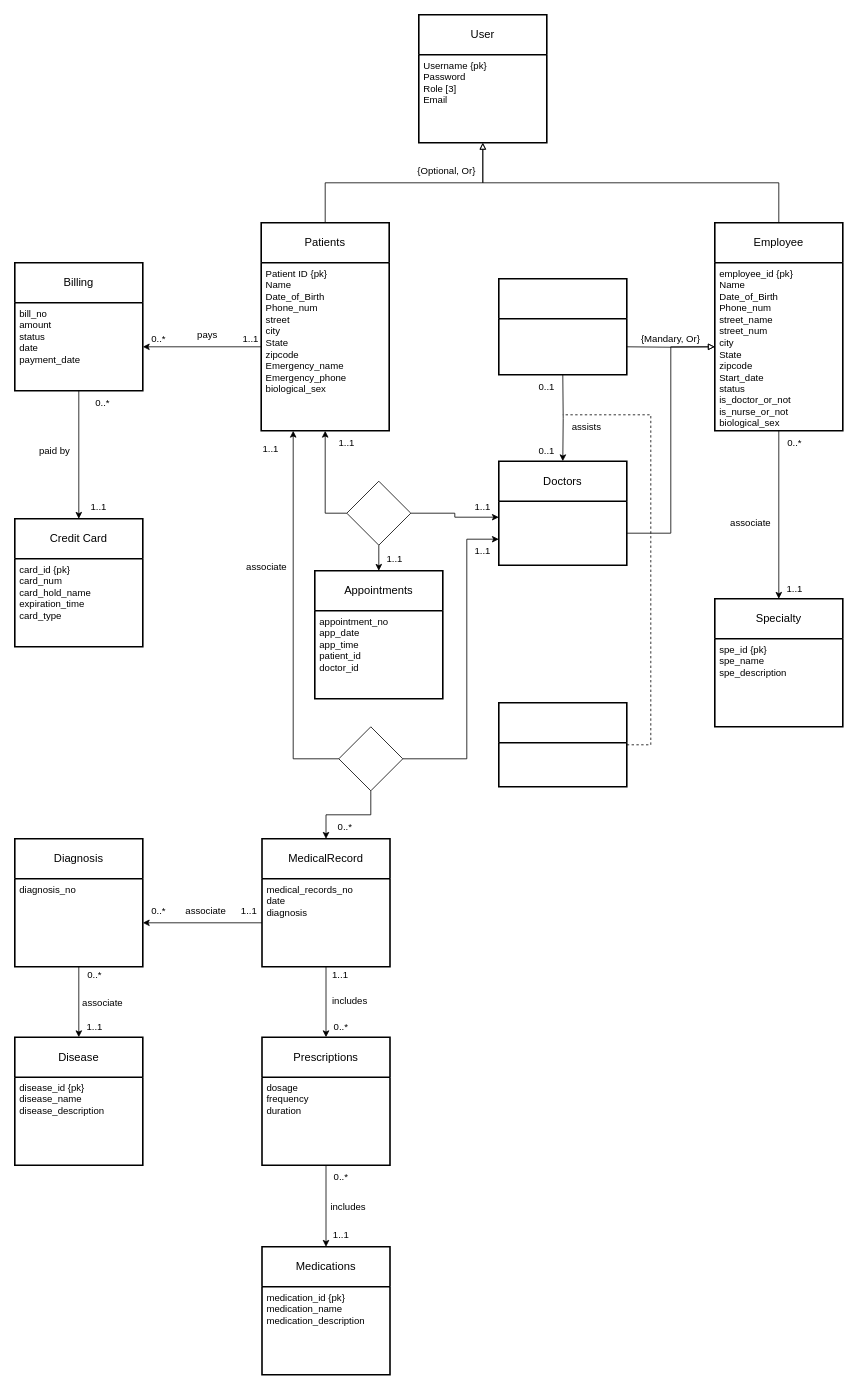
The diagram is 857 pixels wide and 1389 high, and some of its shapes have lost their labels. The centre of each missing label's shape, as x and y in pixels:
Creates: (370,758)
keep tracking the time of pairing nurses and doctors: (562,744)
Makes: (378,512)
Nurses: (562,326)
